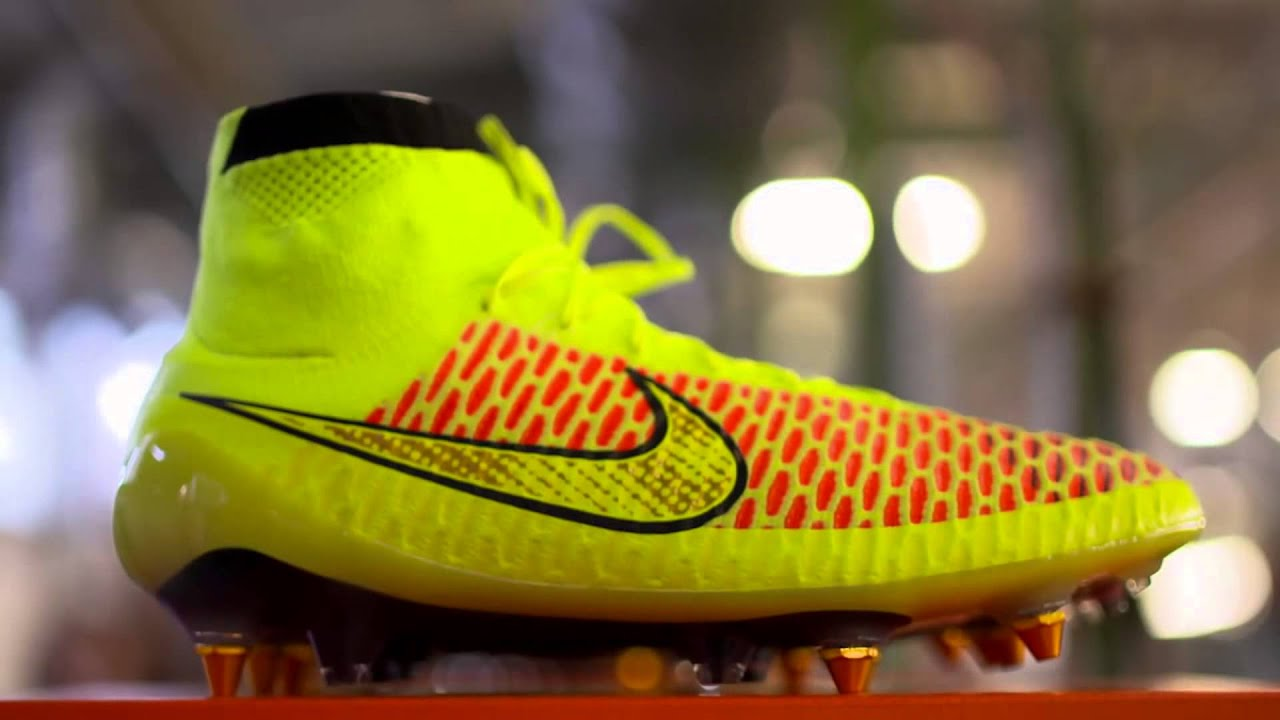football boots: (109, 90, 1208, 696)
